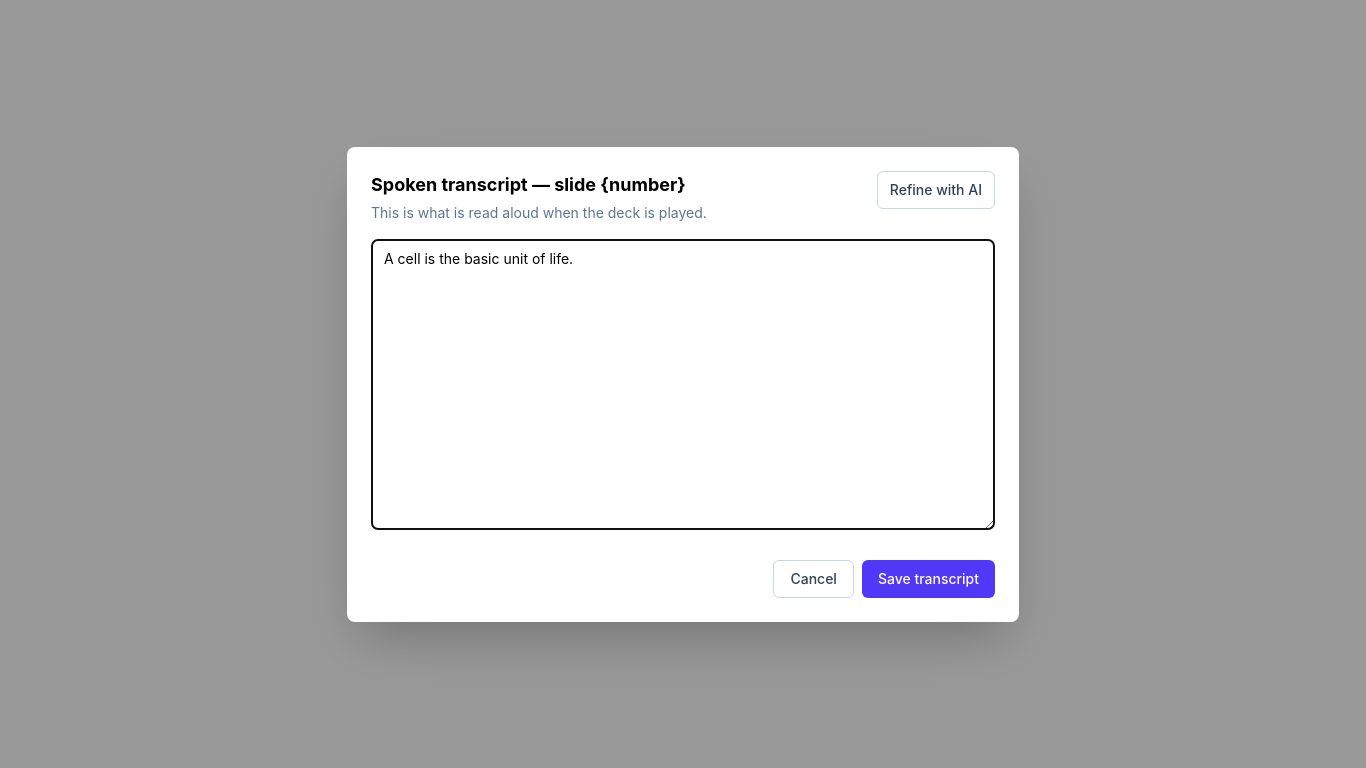
Test case: TranscriptEditorModal › keeps the current text and reports a failed refine
The image size is (1366, 768).
What coordinates should you click on to do the following:
click the button "Refine with AI"
I would click on:
 (936, 190)
Its box is x1=877 y1=170 x2=995 y2=208.
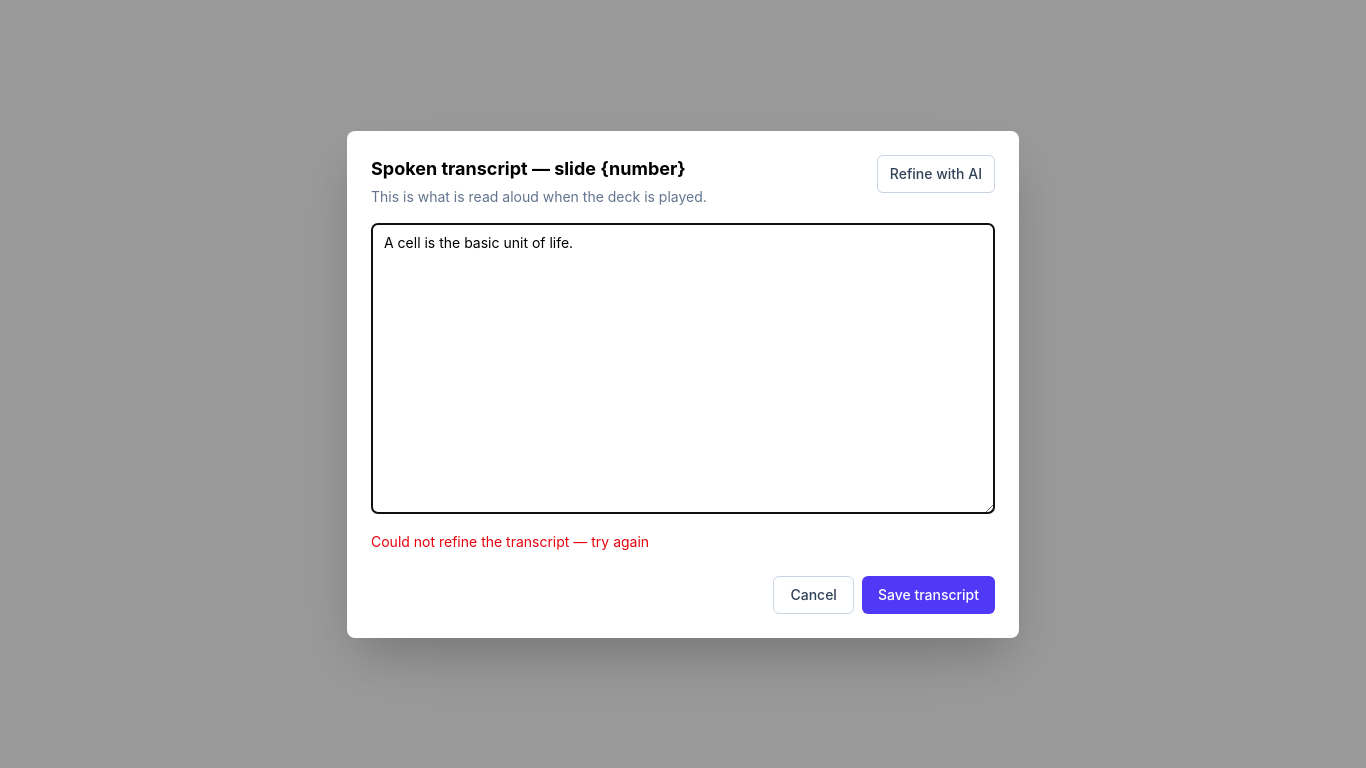
expect the text box named "Spoken transcript" holds "A cell is the basic unit of life.": met, box x1=371 y1=222 x2=995 y2=514
expect the message shows "Could not refine the transcript": met, box x1=371 y1=532 x2=649 y2=550
